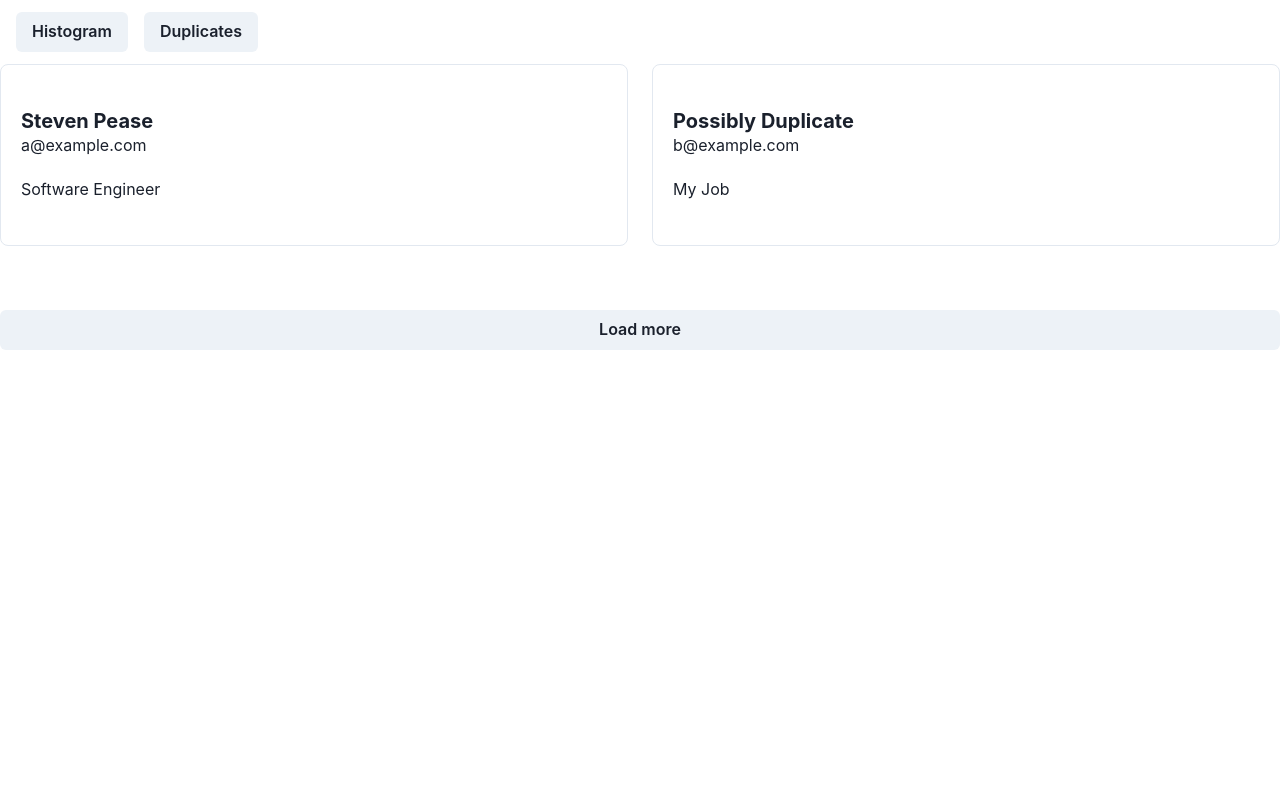
it: App › shows error when character count fails
The width and height of the screenshot is (1280, 800).
Click the button "Histogram" at (72, 32), box top-left (16, 12), bottom-right (128, 52)
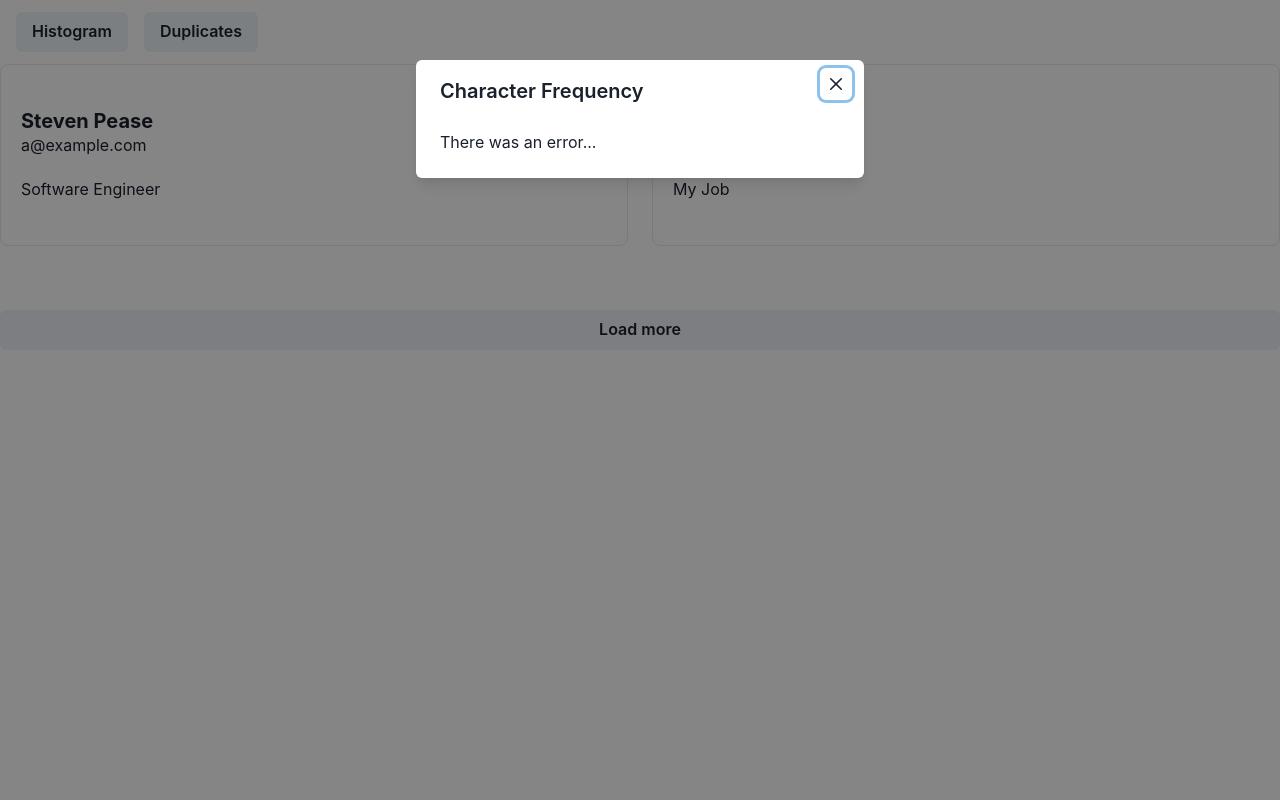
Check: the text "There was an error..." is shown, box top-left (440, 132), bottom-right (596, 152)
